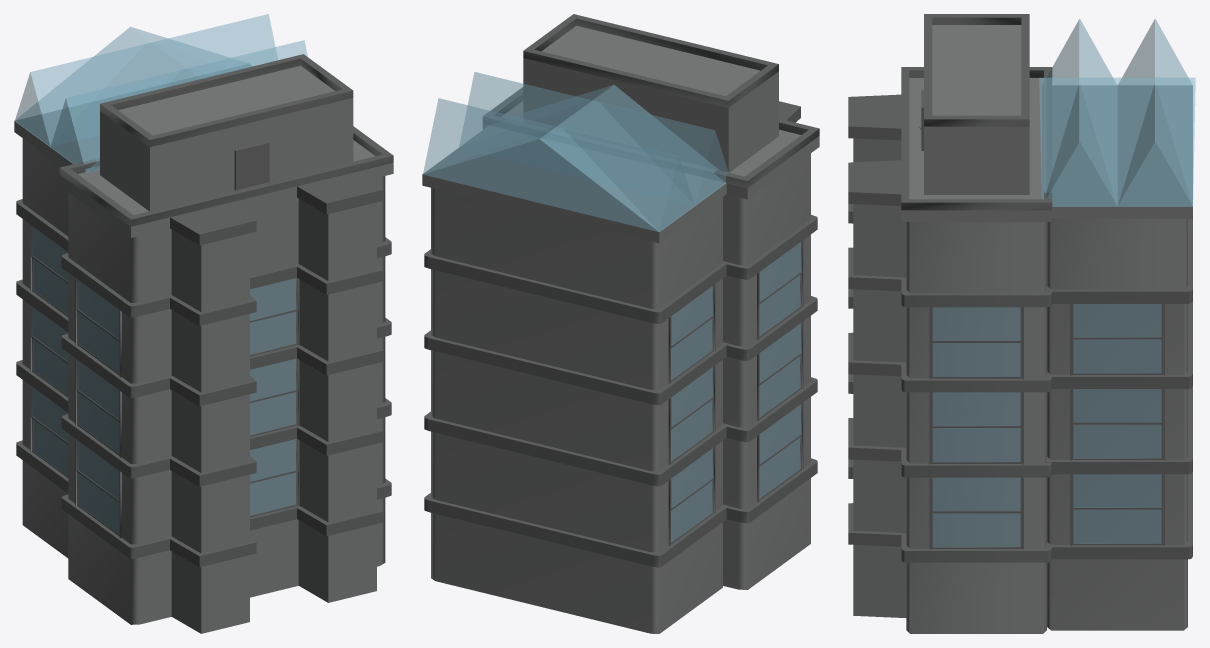
File: Apartment Buildings(5).glb
The picture shows the model from 3 angles, left to right: view 1: azimuth 30°, elevation 25°; view 2: azimuth 150°, elevation 25°; view 3: azimuth 270°, elevation 25°; orthographic projection. The views are drawn at different scales.
Visible parts, largest first — view 1: Root; view 2: Root; view 3: Root.
Boxes of the visible parts, left/top/right/bottom form: Root: left=14, top=14, right=393, bottom=633; Root: left=422, top=14, right=819, bottom=633; Root: left=848, top=14, right=1195, bottom=633.
Size of the model in its own units: 11.62 by 20.02 by 12.57.
